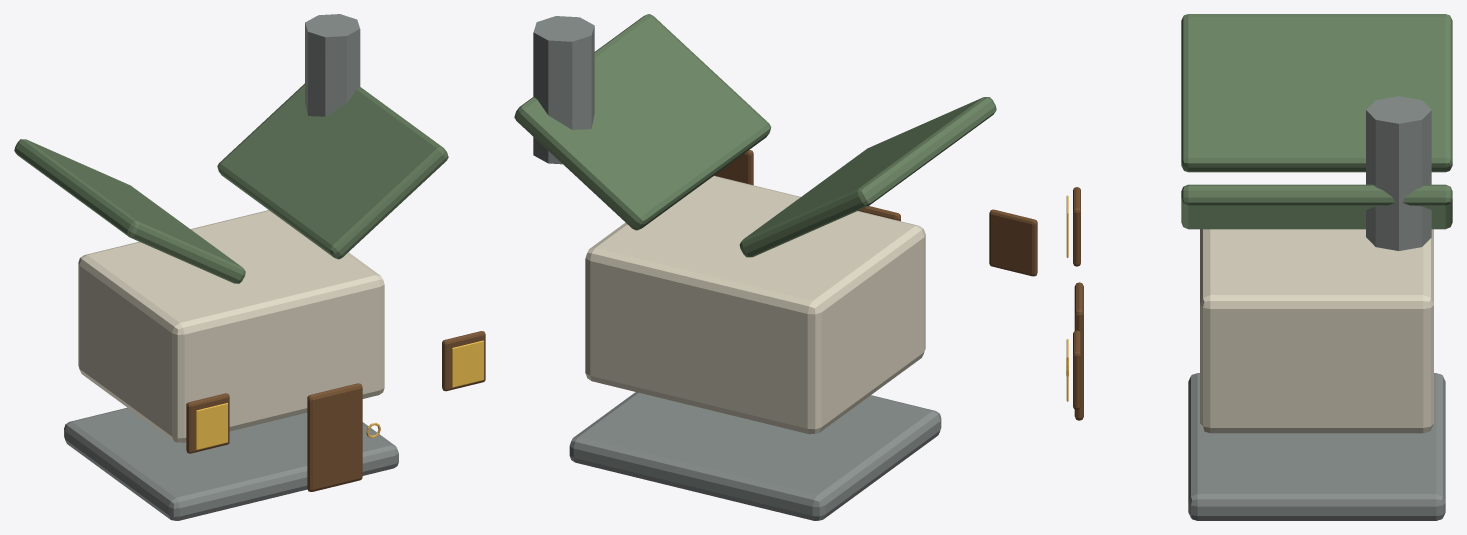
File: cottage_blue.glb
3 views of the same model, side by side, from view 1: azimuth 30°, elevation 25°; view 2: azimuth 150°, elevation 25°; view 3: azimuth 270°, elevation 25° (orthographic). The views are drawn at different scales.
Visible parts, largest first — view 1: House, RoofR, Foundation, RoofL, Door, Chimney, WindowGlow.001, WindowGlow, WindowFrame, WindowFrame.001; view 2: House, Foundation, RoofR, RoofL, Chimney, WindowFrame, WindowFrame.001; view 3: House, RoofL, Foundation, RoofR, Chimney, Door, WindowFrame, WindowFrame.001.
Part boxes in pixels (bbox=[...]): House: bbox=[78, 210, 384, 442]; RoofR: bbox=[217, 83, 448, 259]; Foundation: bbox=[64, 407, 398, 520]; RoofL: bbox=[14, 139, 245, 283]; Door: bbox=[307, 383, 362, 491]; Chimney: bbox=[305, 14, 360, 116]; WindowGlow.001: bbox=[452, 340, 483, 387]; WindowGlow: bbox=[196, 403, 227, 449]; WindowFrame: bbox=[186, 393, 229, 453]; WindowFrame.001: bbox=[442, 331, 485, 391]; House: bbox=[585, 175, 925, 434]; Foundation: bbox=[569, 392, 941, 520]; RoofR: bbox=[514, 14, 771, 230]; RoofL: bbox=[739, 97, 996, 257]; Chimney: bbox=[533, 16, 594, 164]; WindowFrame: bbox=[989, 209, 1037, 276]; WindowFrame.001: bbox=[714, 150, 753, 185]; House: bbox=[1200, 229, 1433, 433]; RoofL: bbox=[1181, 14, 1452, 172]; Foundation: bbox=[1188, 373, 1445, 520]; RoofR: bbox=[1181, 184, 1452, 229]; Chimney: bbox=[1366, 96, 1431, 250]; Door: bbox=[1074, 282, 1083, 420]; WindowFrame: bbox=[1073, 187, 1080, 266]; WindowFrame.001: bbox=[1073, 330, 1080, 409].
Bounding box in the file's own units: 3.65 × 4.02 × 3.3.
